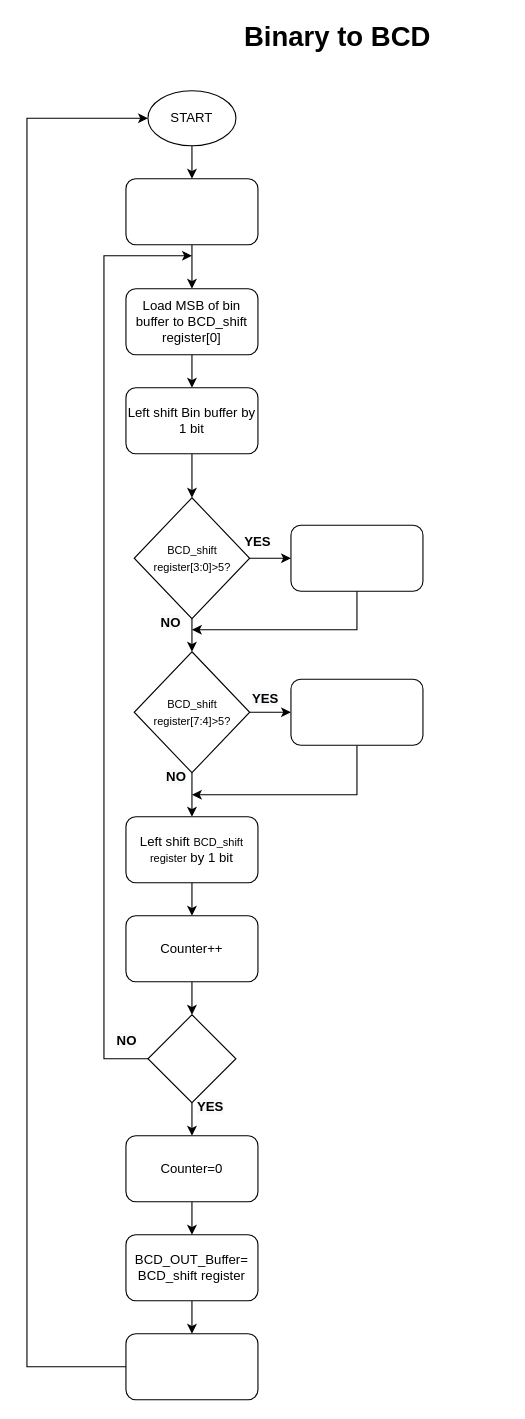
This 525x1419 diagram has some shape labels left out. Here are the shapes that lost their labels. From the top down, the centre of each, then its label:
point (191, 211): Load bin value into buffer
point (356, 557): BCD_shift register[3:0]+=3
point (356, 711): BCD_shift register[7:4]+=3
point (191, 1058): Counter=9?
point (191, 1366): BCD_OUT= BCD_OUT_Buffer (combinatorial)
